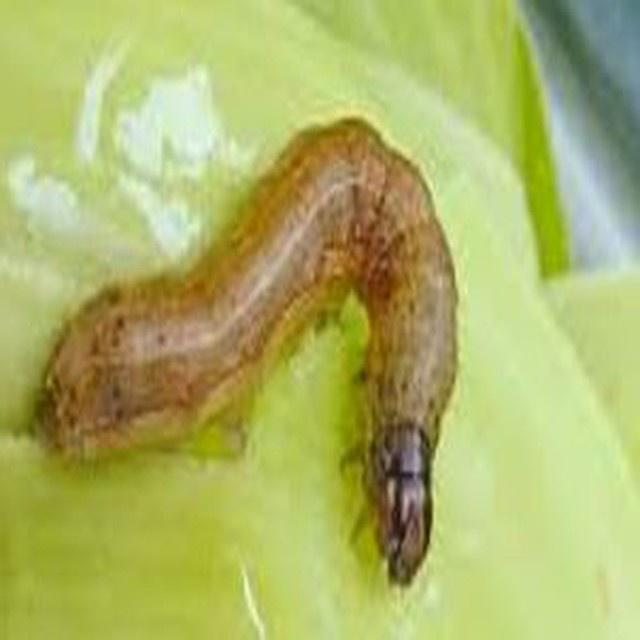gusano_cogollero: (32, 116, 468, 592)
